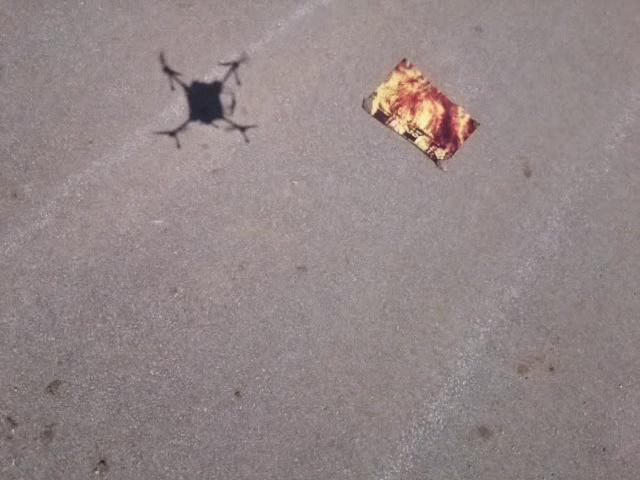fire-poster: (359, 55, 481, 172)
